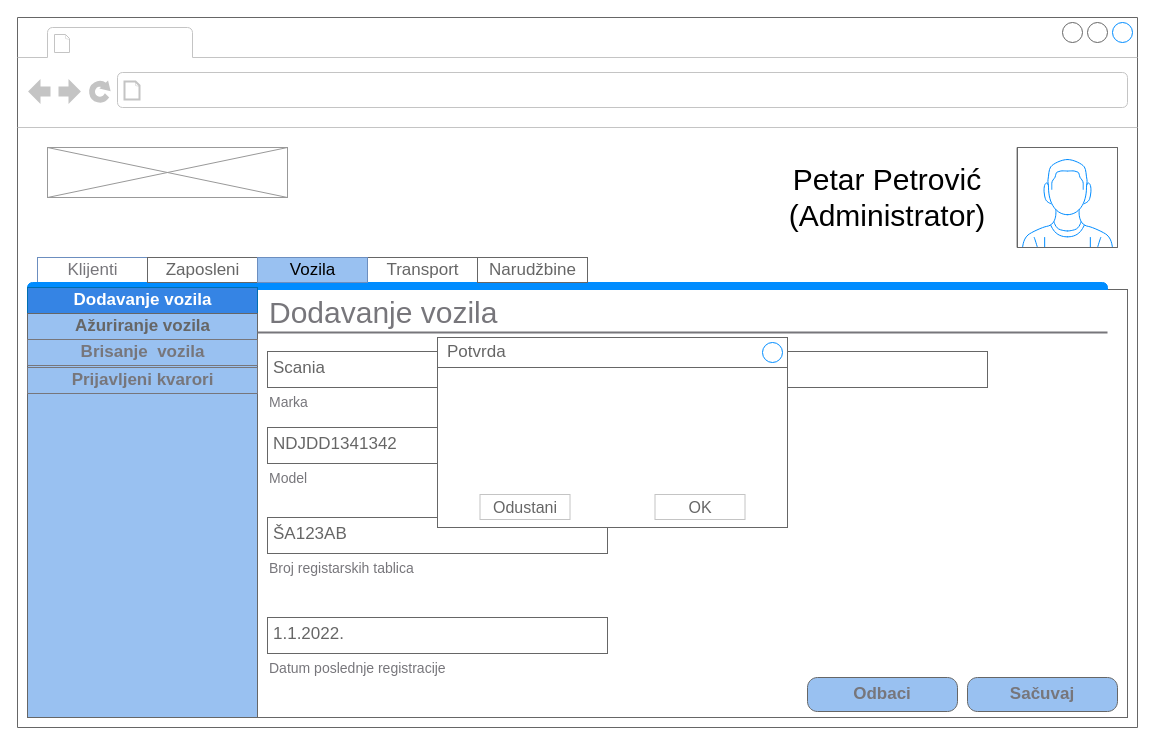
Some shapes in this 1155 by 745 pixel diagram are drawn without their labels. The centre of each missing label's shape, as x and y in pixels:
https://www.transportsecera.com/admin/klijenti: point 372,90
LOGO: point 167,172
Transport šećera: point 132,42
Želite li da sačuvate unete izmene?: point 612,432
